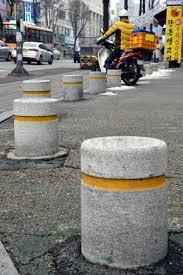Animal: (93, 138, 175, 262), (15, 93, 60, 148), (62, 74, 80, 101), (23, 78, 44, 100), (92, 71, 110, 91)
